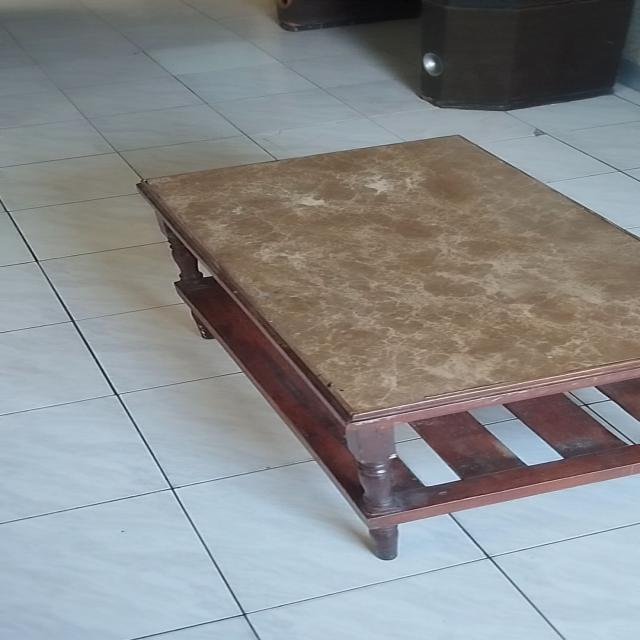table: (131, 130, 640, 561)
